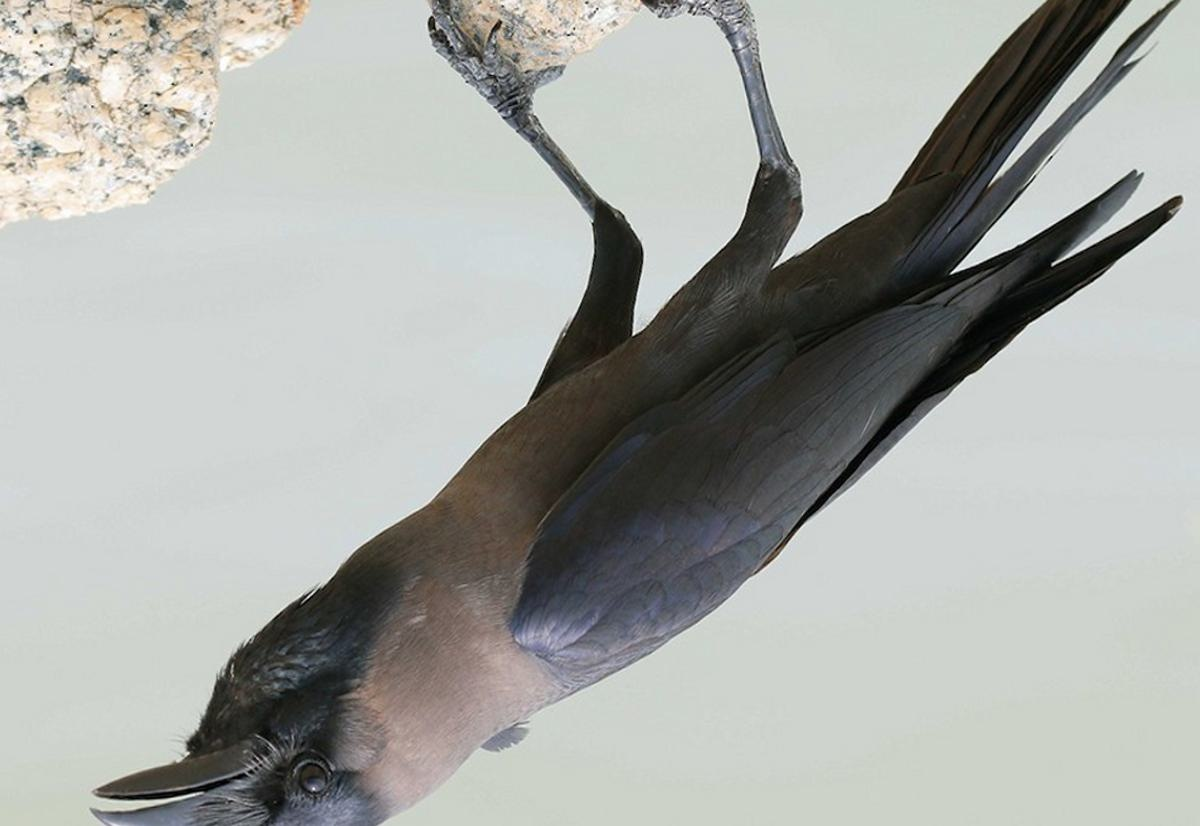crow: (45, 2, 1194, 826)
